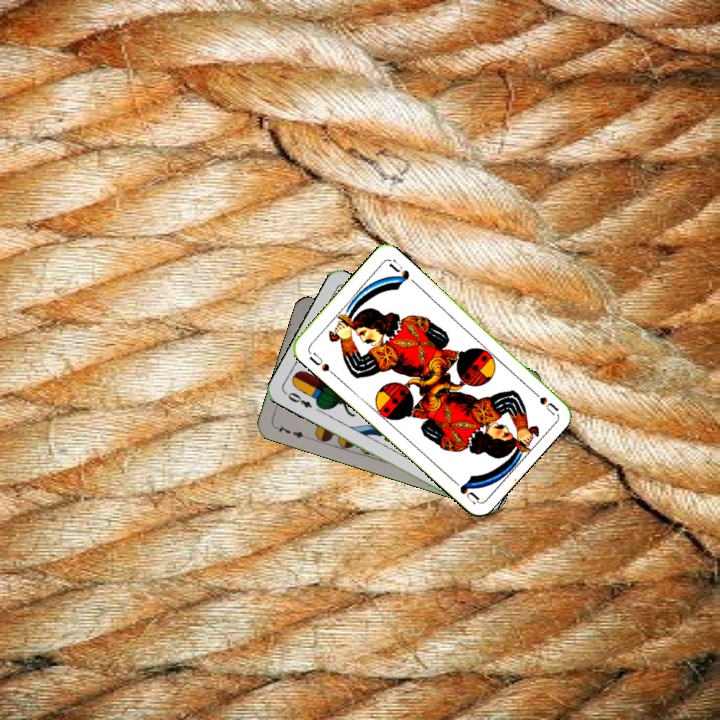E7: (271, 421, 311, 441)
EO: (284, 388, 315, 410)
SU: (525, 383, 560, 417), (305, 348, 338, 378)
